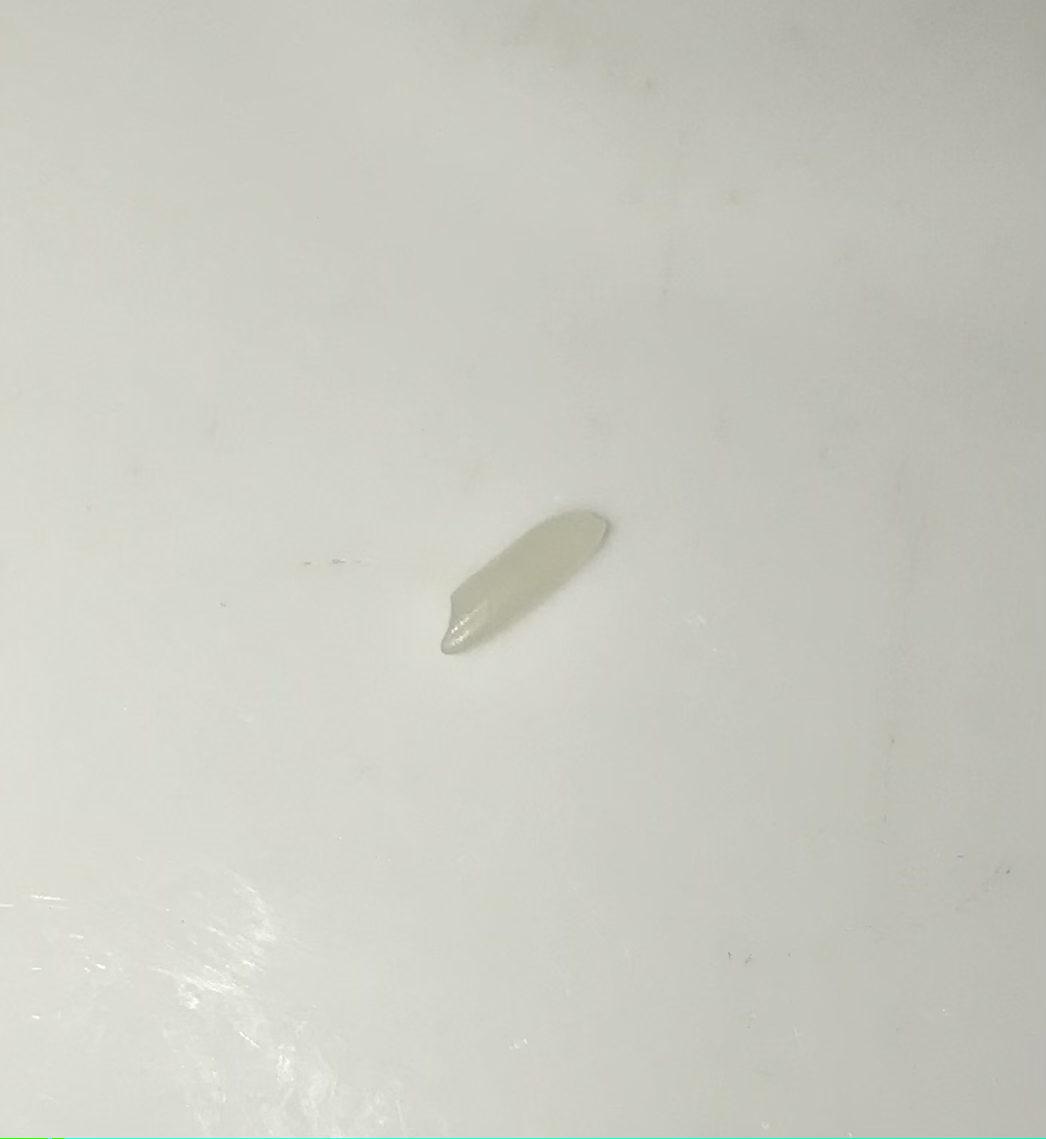Gao Ngoc Troi: (435, 504, 622, 669)
